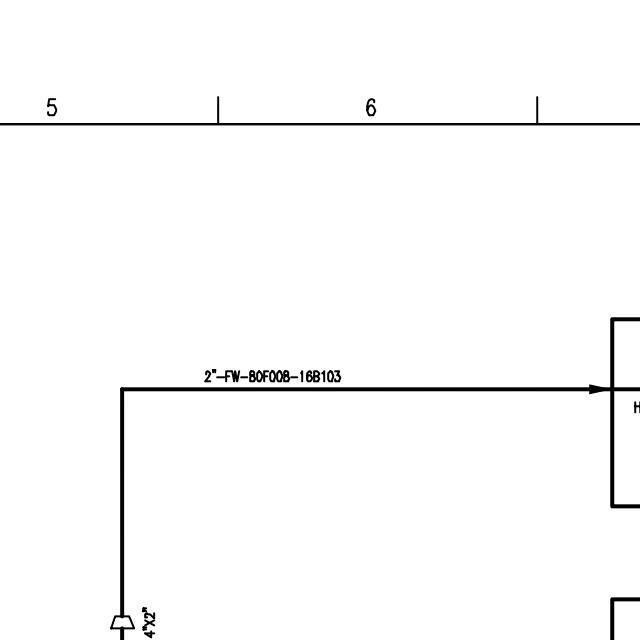SP: (108, 612, 134, 633)
